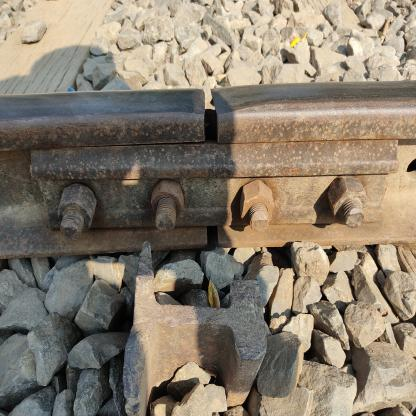Defective: (138, 71, 299, 180)
